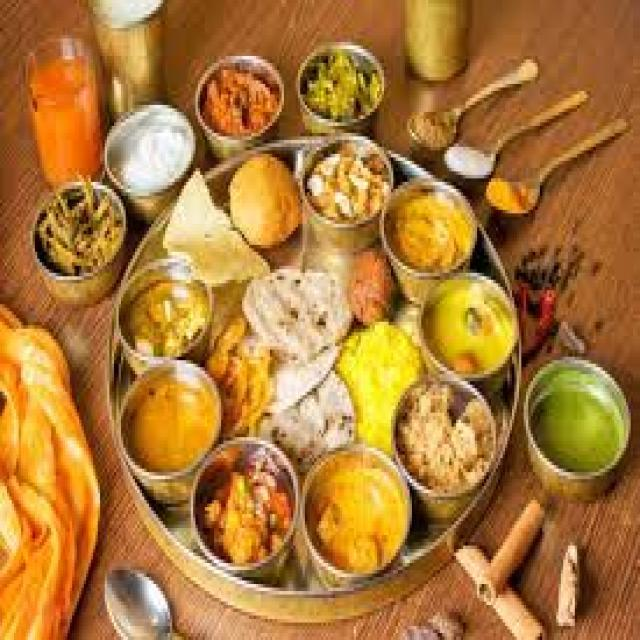dal: (120, 367, 223, 485), (414, 271, 518, 378)
papad: (244, 257, 353, 425), (165, 189, 269, 298)
pickle: (517, 246, 567, 352)
raita: (110, 103, 194, 195)
rice: (244, 254, 350, 392)
roti: (2, 355, 91, 640)
sweet: (393, 369, 502, 510), (202, 446, 305, 569), (123, 267, 216, 373), (342, 245, 400, 327)
